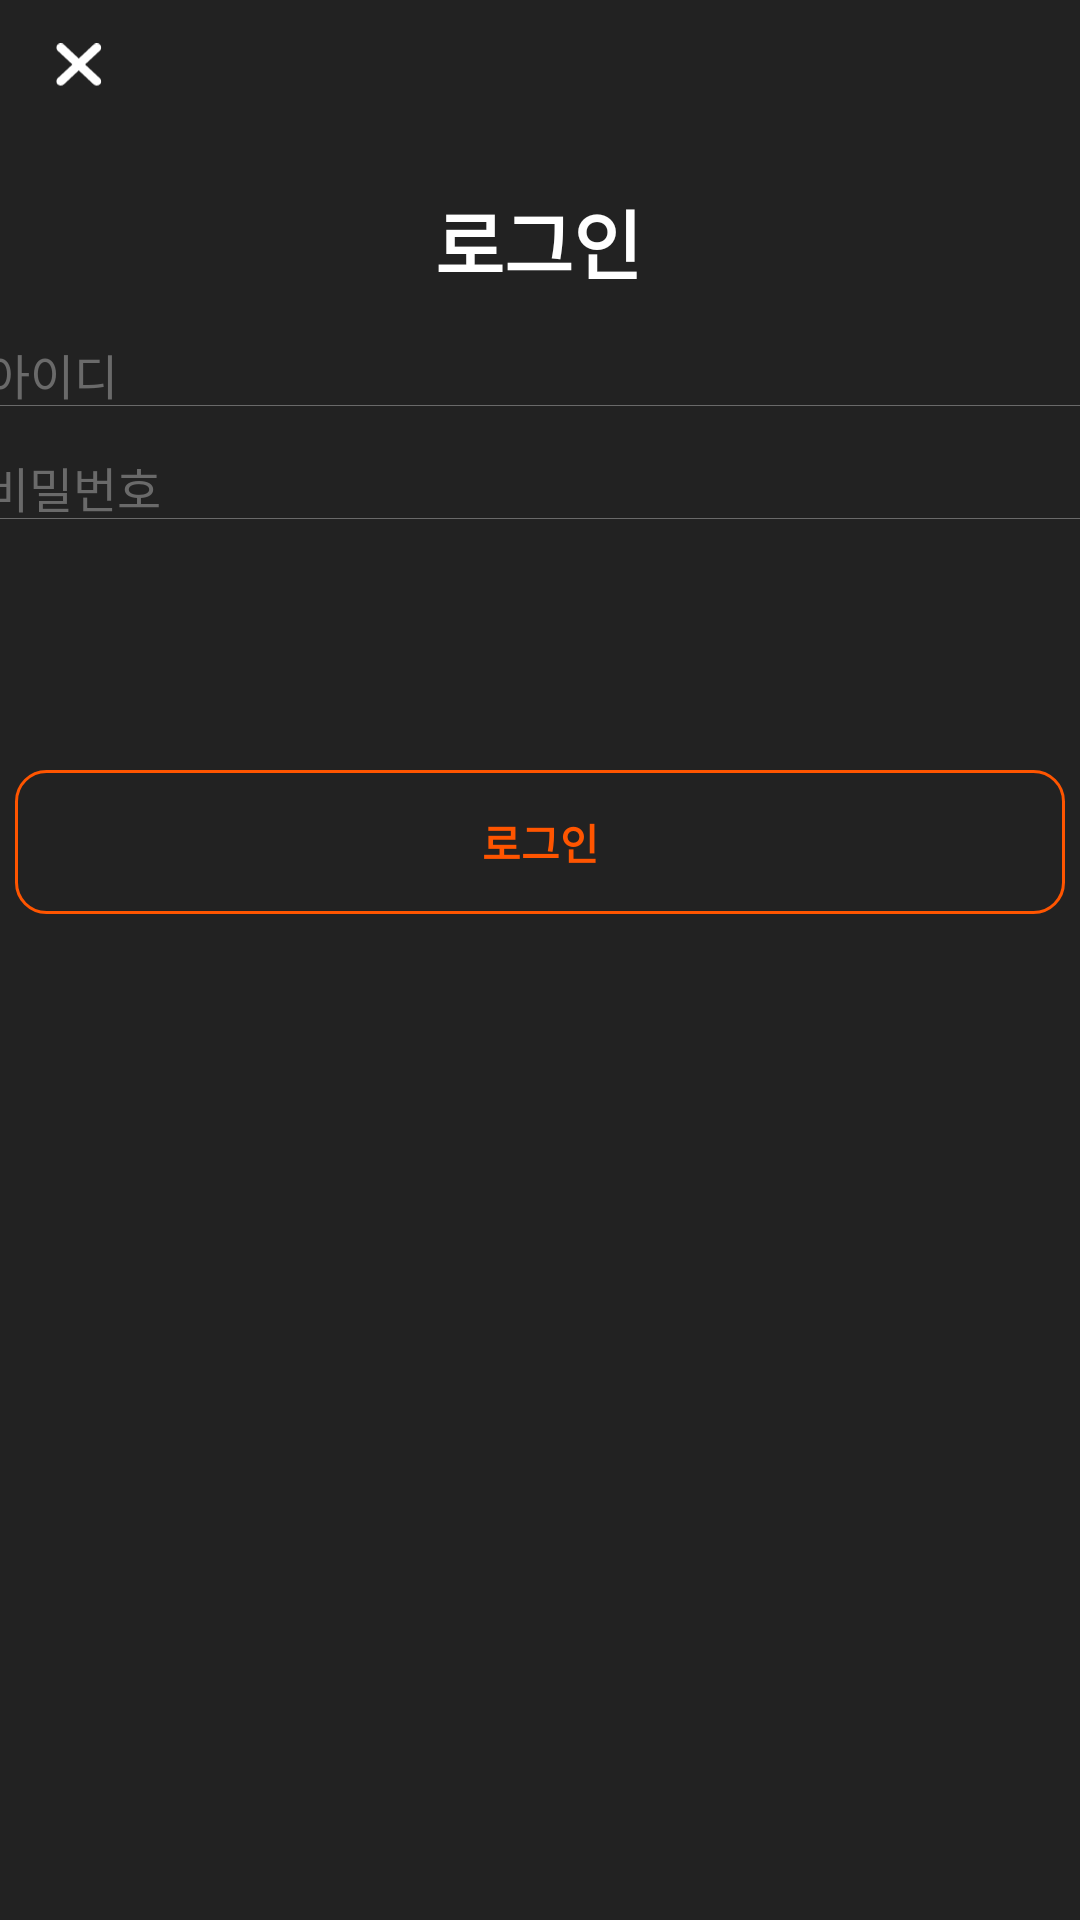

Where icons sit on this 1080px×1920px app screen, as bbox=(x1, y1, x2, y2):
closebox: bbox=(56, 43, 101, 86)
